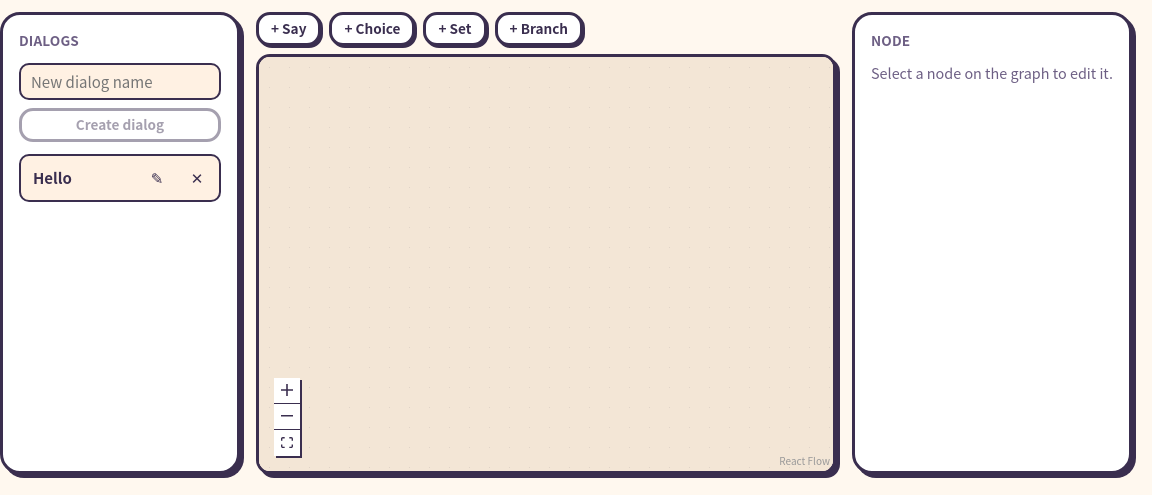
Scenario: DialogsView list › renames a dialog with one history step
The width and height of the screenshot is (1152, 495).
Click the button named "Rename Hello" at [157, 178], box [139,160,175,196]
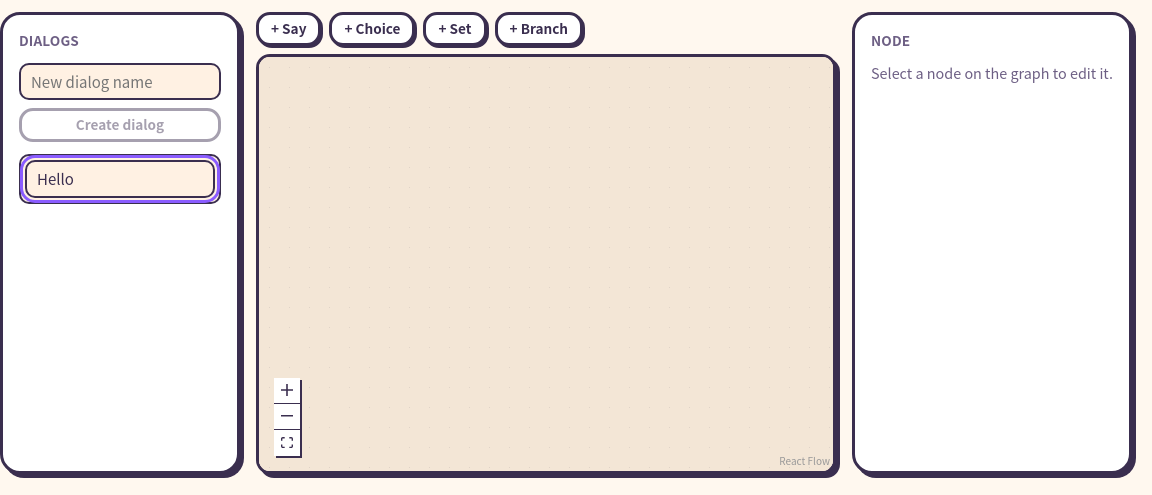
Replace the text in the field named "Dialog name" with "Greeting" at [120, 179], box [25,160,215,198]
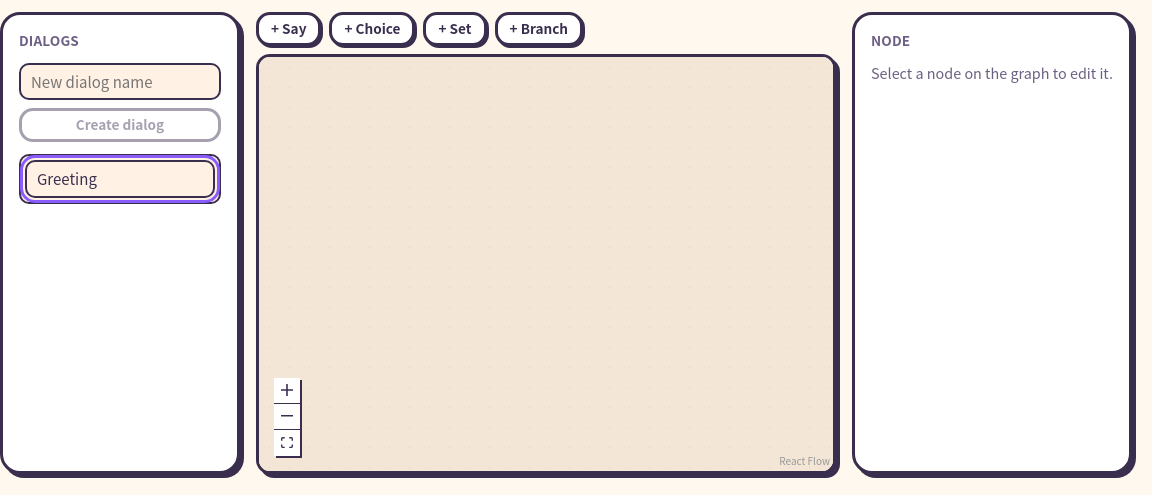
Press Enter in the field named "Dialog name", box [25,160,215,198]
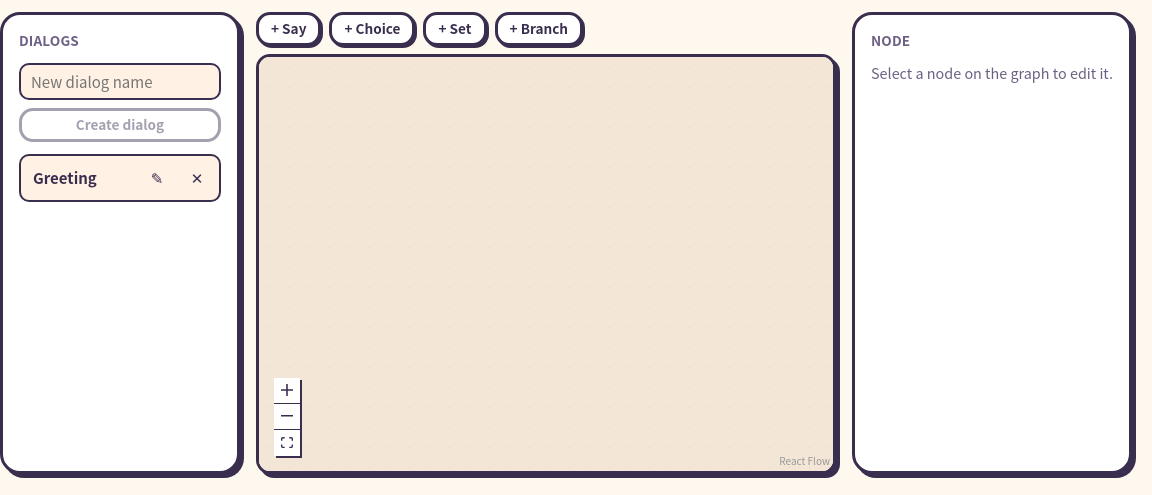
Expected: the button "Greeting" is shown, [25,161,135,195]
